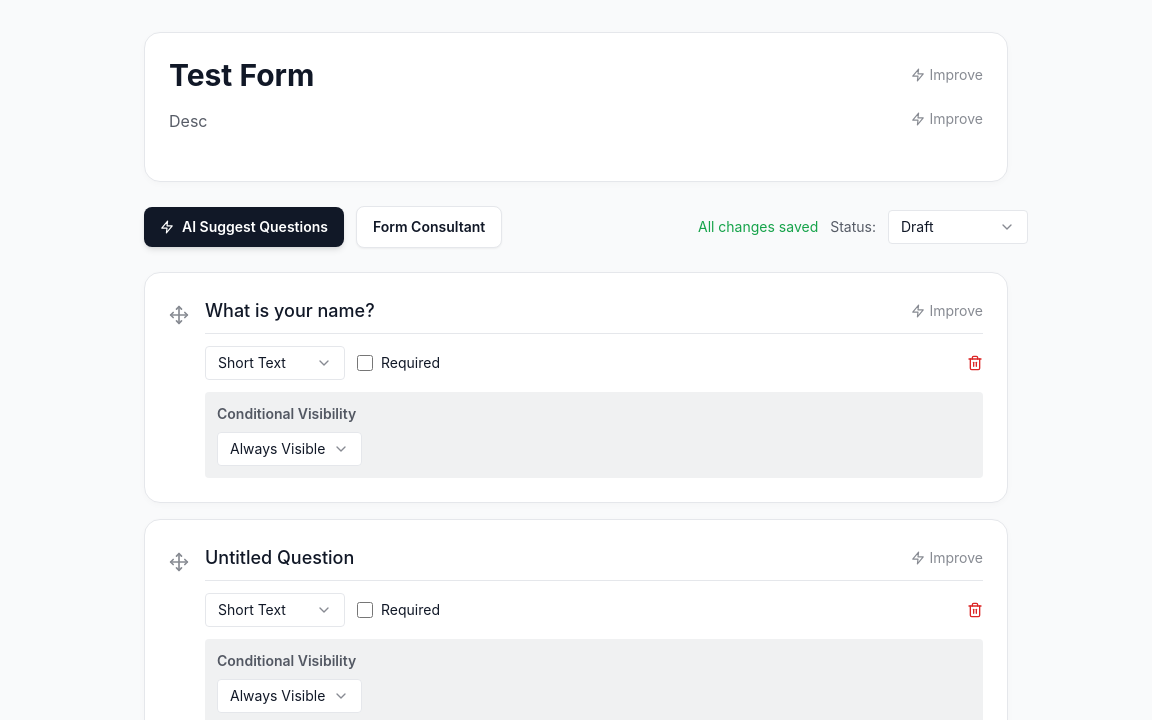
Scenario: FormBuilder Phase 6 AI Features › handles description writing improvement
Click the 2nd button titled "Improve description with AI" at (947, 119), box 912,109 -> 983,129
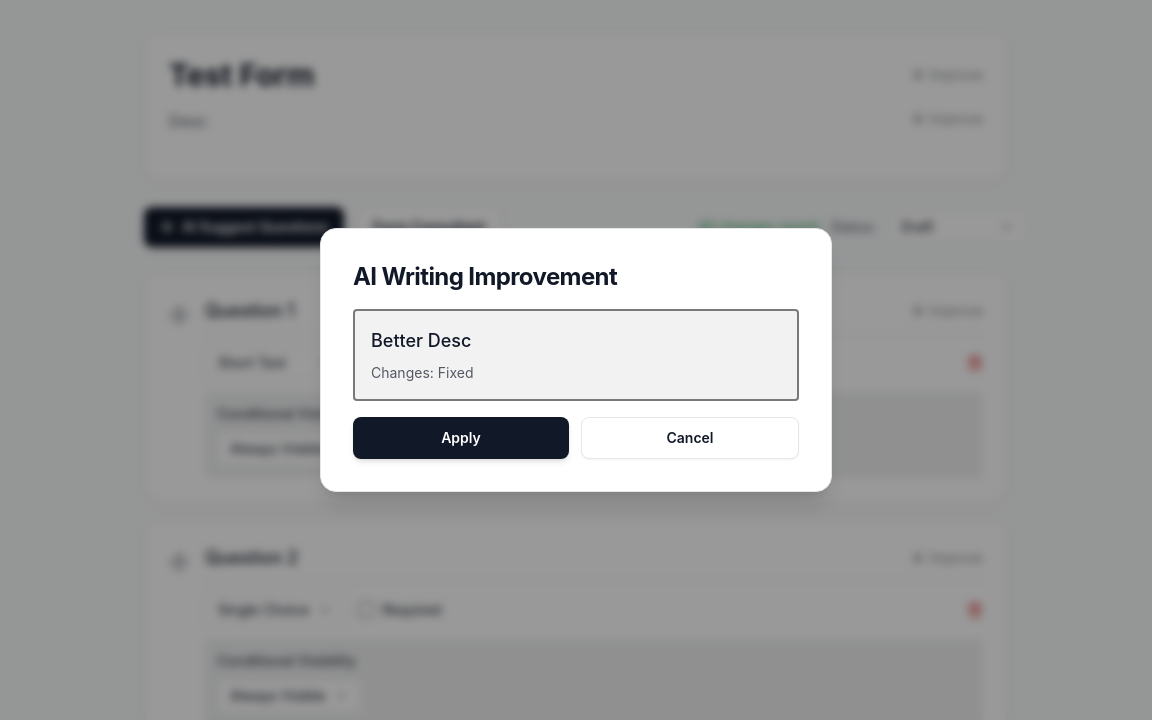
Check: the text "Better Desc" is shown, box 371,330 -> 471,351
Click the button "Apply" at (461, 438), box 353,417 -> 569,459
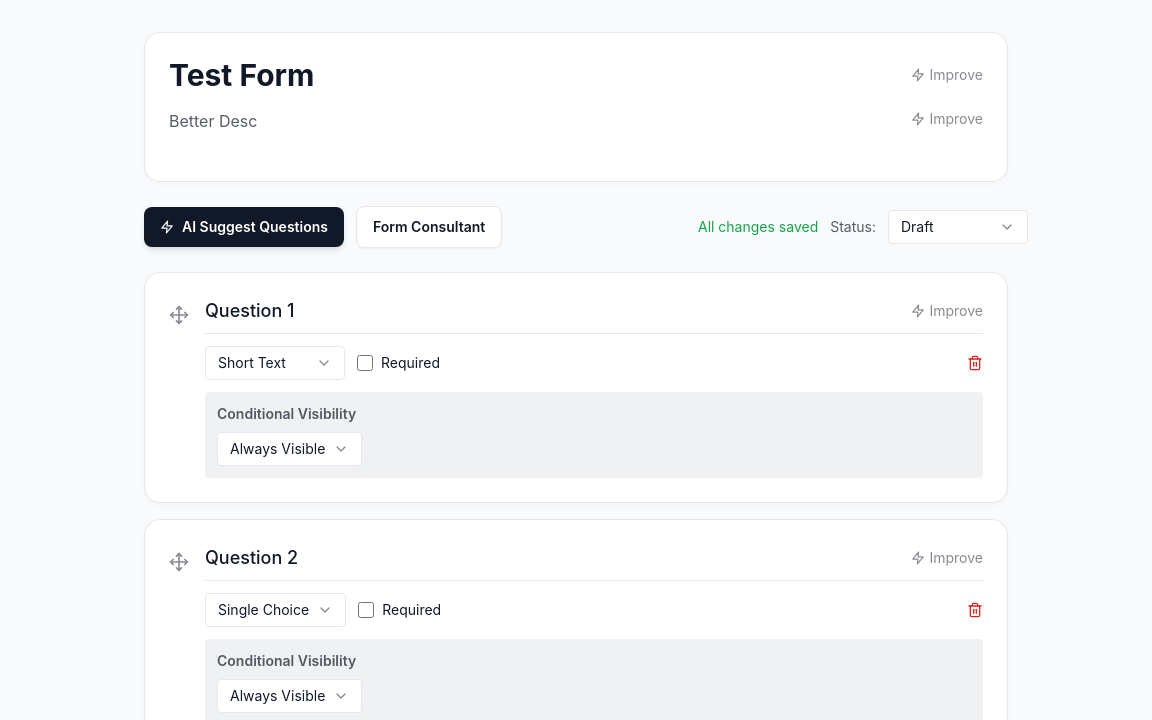
Check: the heading "AI Writing Improvement" is gone
